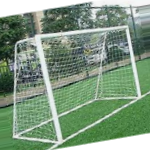goals: (11, 25, 142, 141)
